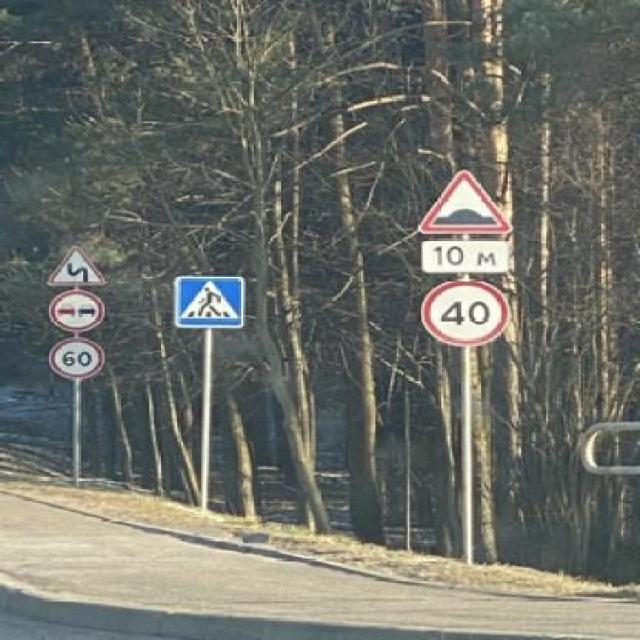forb_speed_over_40: (422, 278, 509, 347)
forb_speed_over_60: (50, 338, 102, 381)
